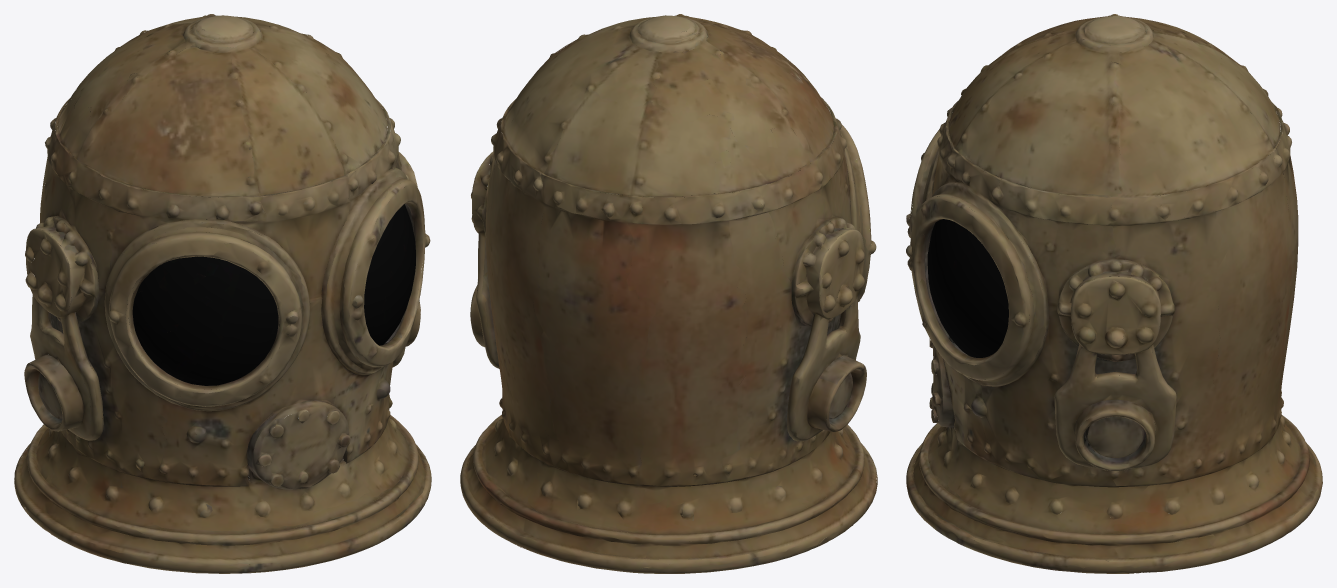
The model's file is diving-helmet.glb.
3 views of the same model, side by side, from view 1: azimuth 30°, elevation 25°; view 2: azimuth 150°, elevation 25°; view 3: azimuth 270°, elevation 25° (orthographic).
Parts seen in each view (by area): view 1: Mesh_0; view 2: Mesh_0; view 3: Mesh_0.
Boxes of the visible parts, x1=… form: Mesh_0: x1=14, y1=14, x2=431, y2=573; Mesh_0: x1=460, y1=14, x2=877, y2=573; Mesh_0: x1=906, y1=14, x2=1322, y2=573.
Bounding box in the file's own units: 0.8348 × 1 × 0.8143.
1 material, 1 textured.
